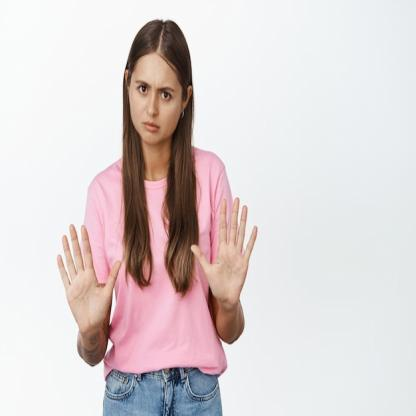stop: (188, 194, 260, 306), (55, 220, 124, 336)
